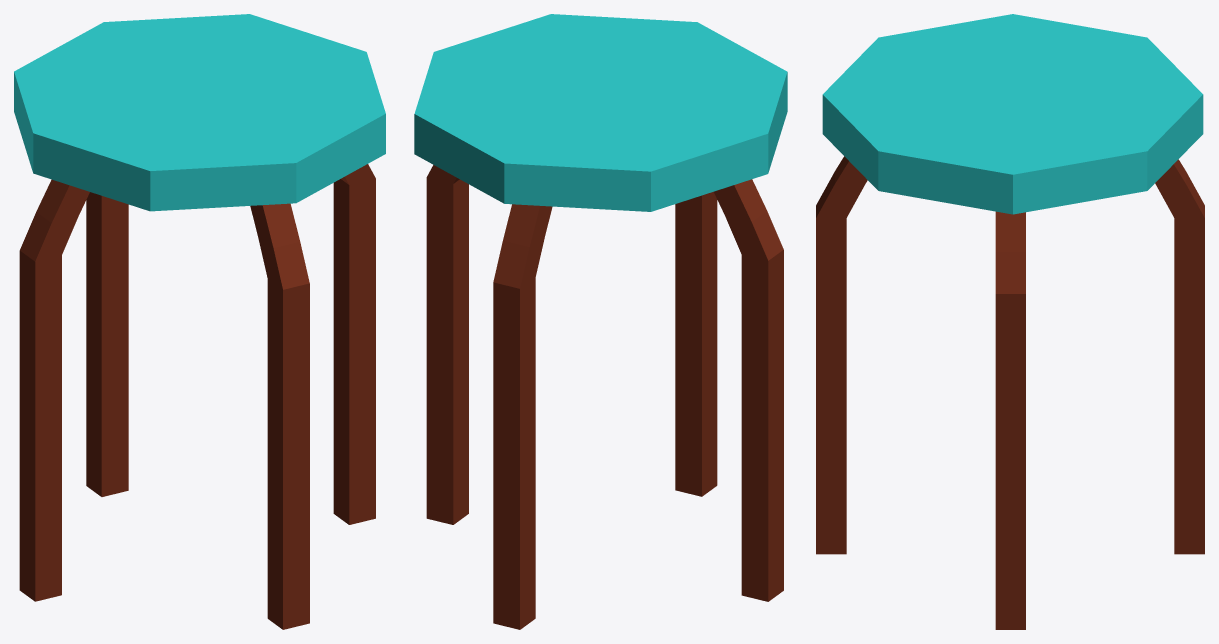
The model's file is chaise4.fbx.
3 renders of one model, left to right at view 1: azimuth 30°, elevation 25°; view 2: azimuth 150°, elevation 25°; view 3: azimuth 270°, elevation 25°, orthographic.
Parts seen in each view (by area): view 1: Cube.001; view 2: Cube.001; view 3: Cube.001.
Part boxes in pixels (left/top/right/bottom): Cube.001: left=14, top=14, right=385, bottom=629; Cube.001: left=414, top=14, right=787, bottom=629; Cube.001: left=816, top=14, right=1204, bottom=629.
Bounding box in the file's own units: 253 × 326 × 253.
